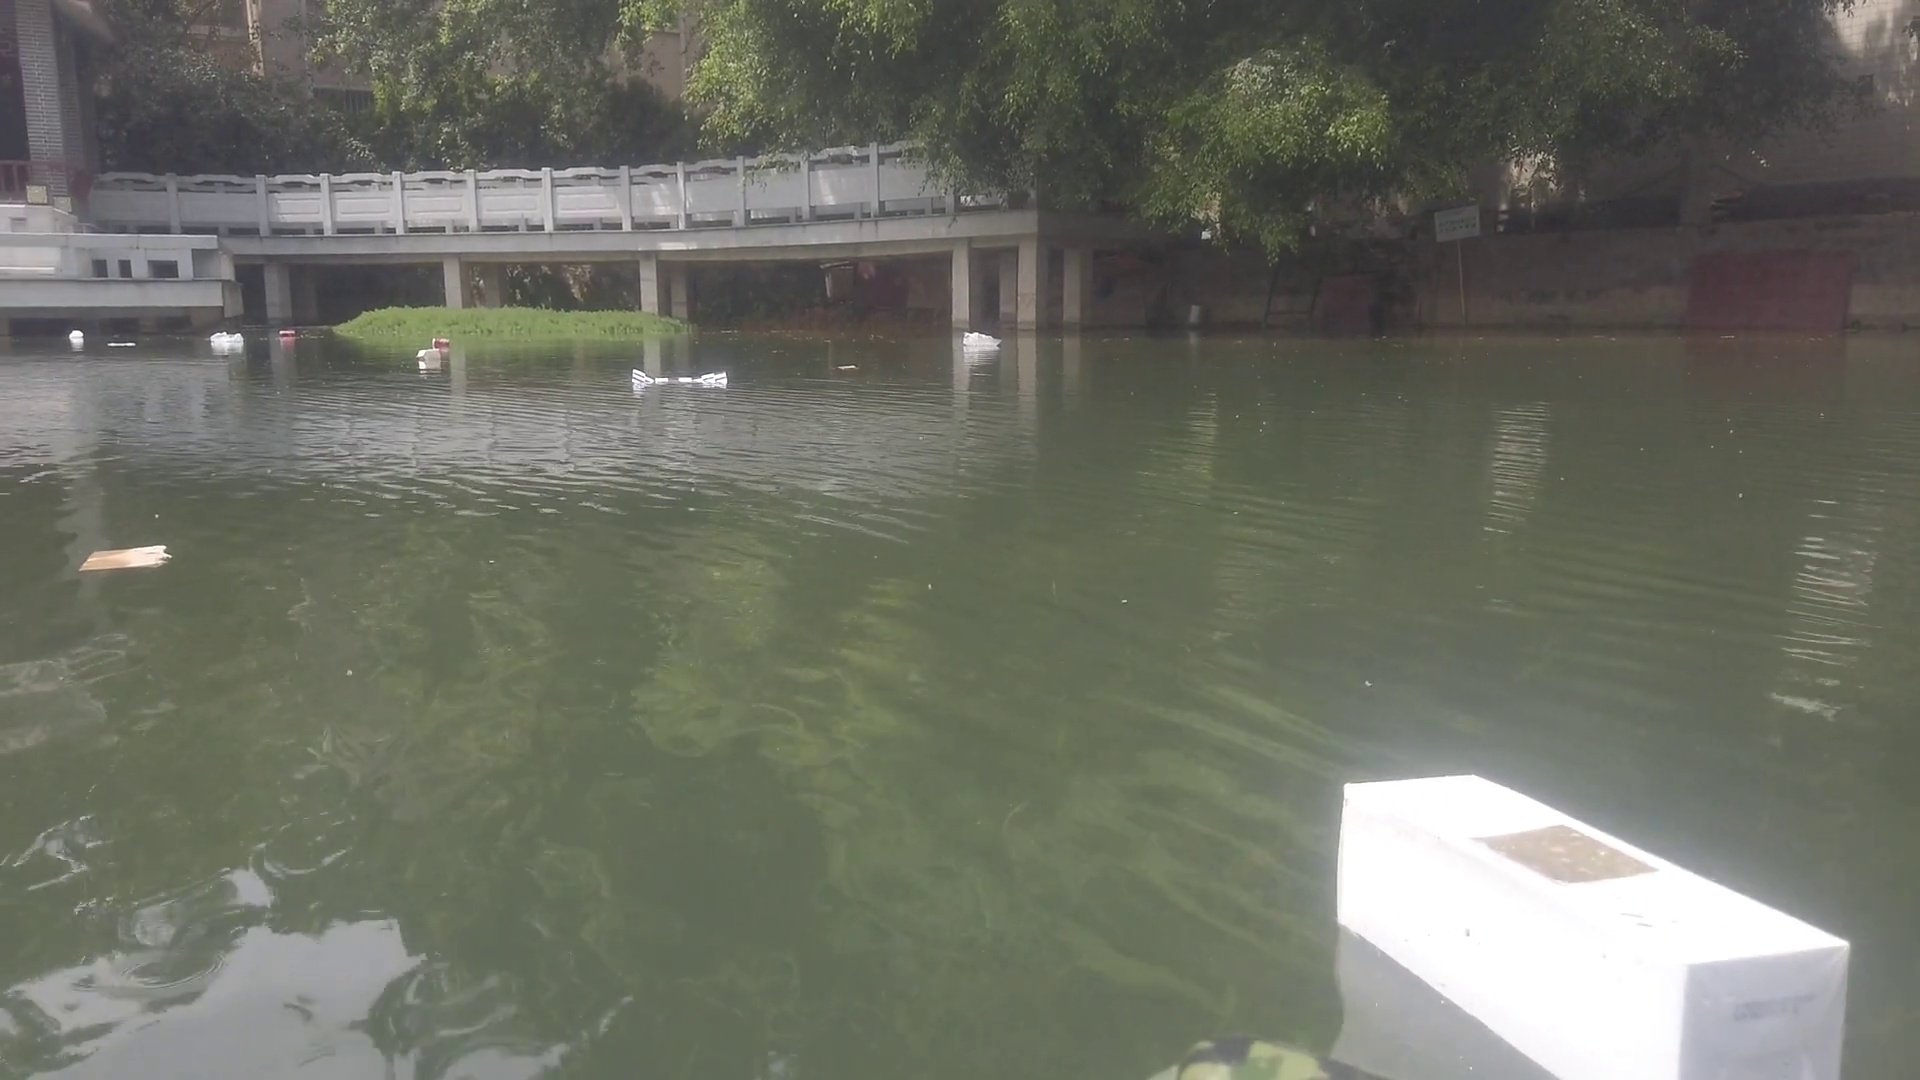bottle: (431, 334, 454, 348), (276, 326, 295, 340)
carton: (1332, 770, 1863, 1080), (415, 348, 444, 361)
paper: (70, 541, 182, 576), (628, 367, 728, 388), (835, 357, 858, 373), (105, 338, 137, 349)
plastic: (959, 328, 1007, 348), (206, 326, 244, 347), (67, 324, 84, 339)
